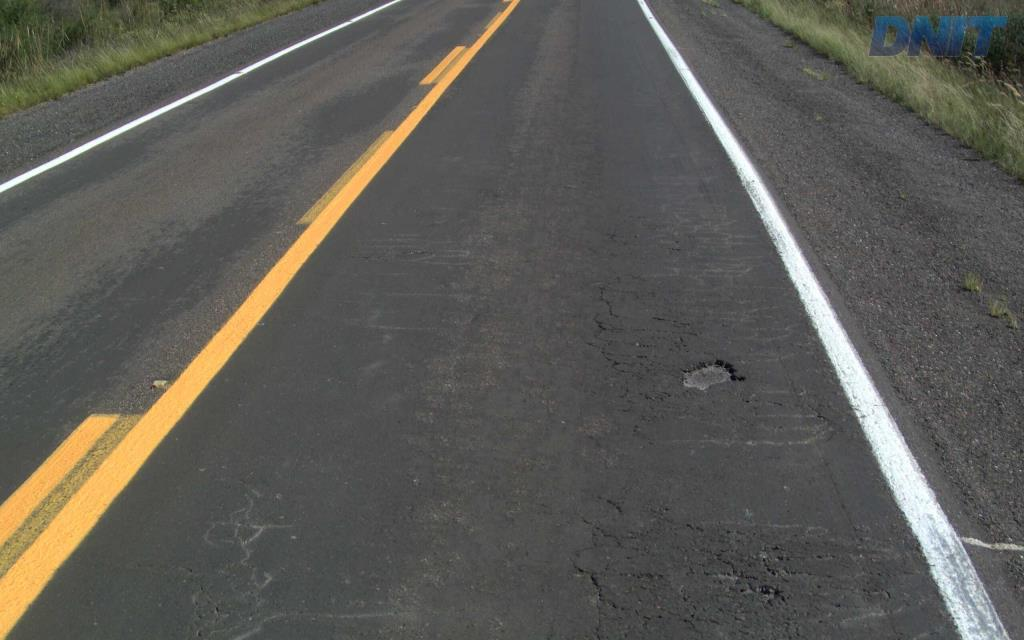crack: (699, 547, 758, 592)
pothole: (675, 353, 747, 392)
